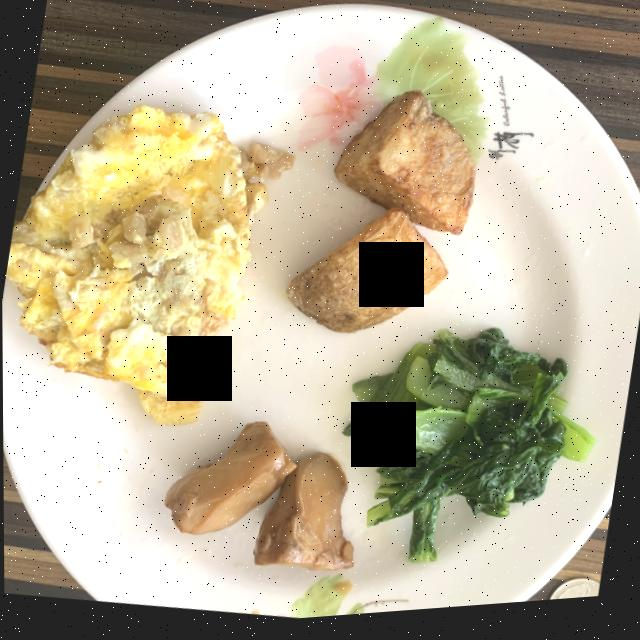coin: (548, 587, 599, 608)
fried potato: (285, 96, 474, 339)
mustard greens: (342, 336, 594, 570)
